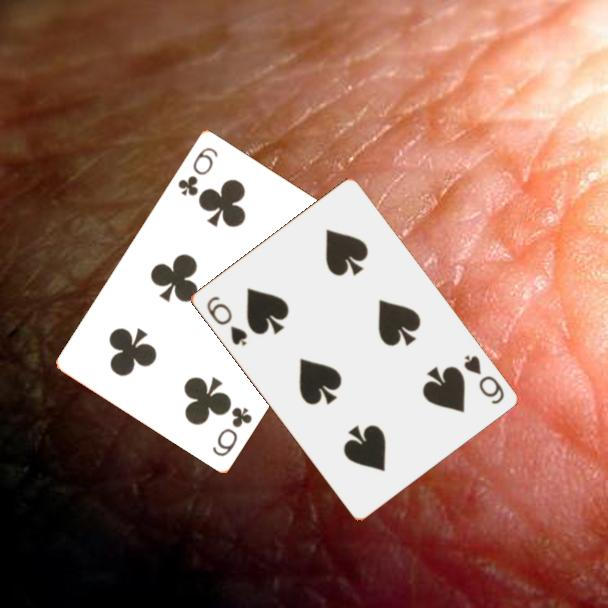c06: (174, 143, 221, 199), (209, 403, 255, 459)
s06: (202, 292, 250, 349), (460, 351, 507, 407)
